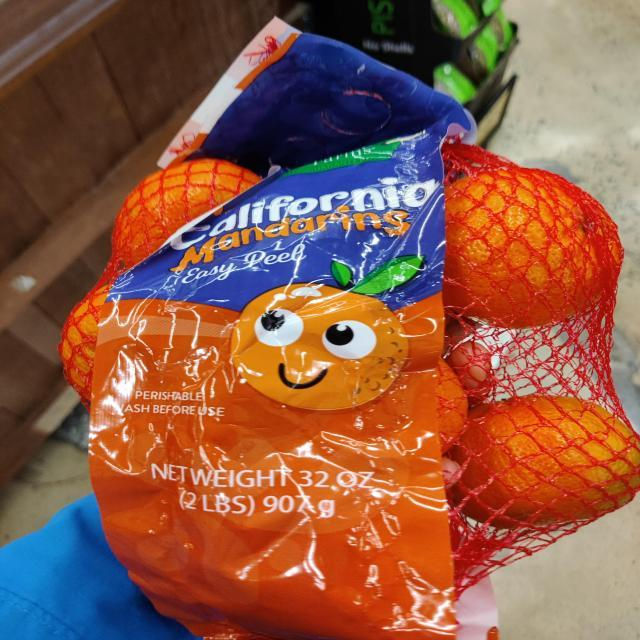orange: (71, 155, 640, 640)
